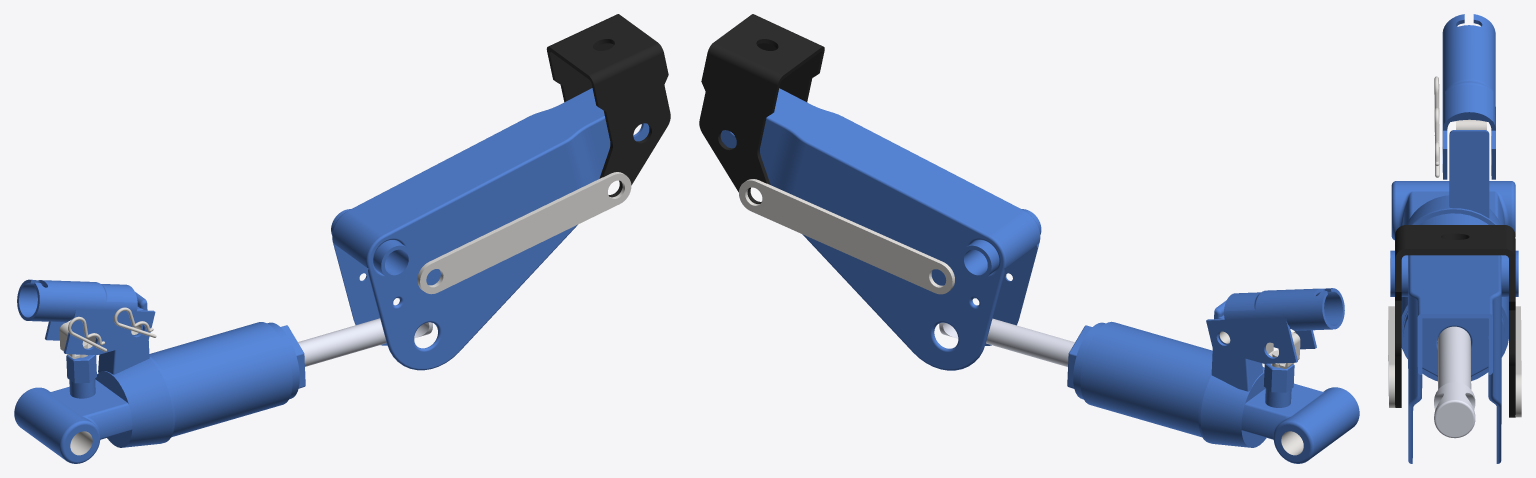
File: Update04.glb
3 renders of one model, left to right at view 1: azimuth 30°, elevation 25°; view 2: azimuth 150°, elevation 25°; view 3: azimuth 270°, elevation 25°, orthographic. The views are drawn at different scales.
Parts seen in each view (by area): view 1: Update04; view 2: Update04; view 3: Update04.
Boxes of the visible parts, bbox=[...] form: Update04: bbox=[14, 14, 670, 463]; Update04: bbox=[699, 14, 1359, 463]; Update04: bbox=[1388, 14, 1521, 463].
Size of the model in its own units: 0.415 by 0.1871 by 0.0603.
